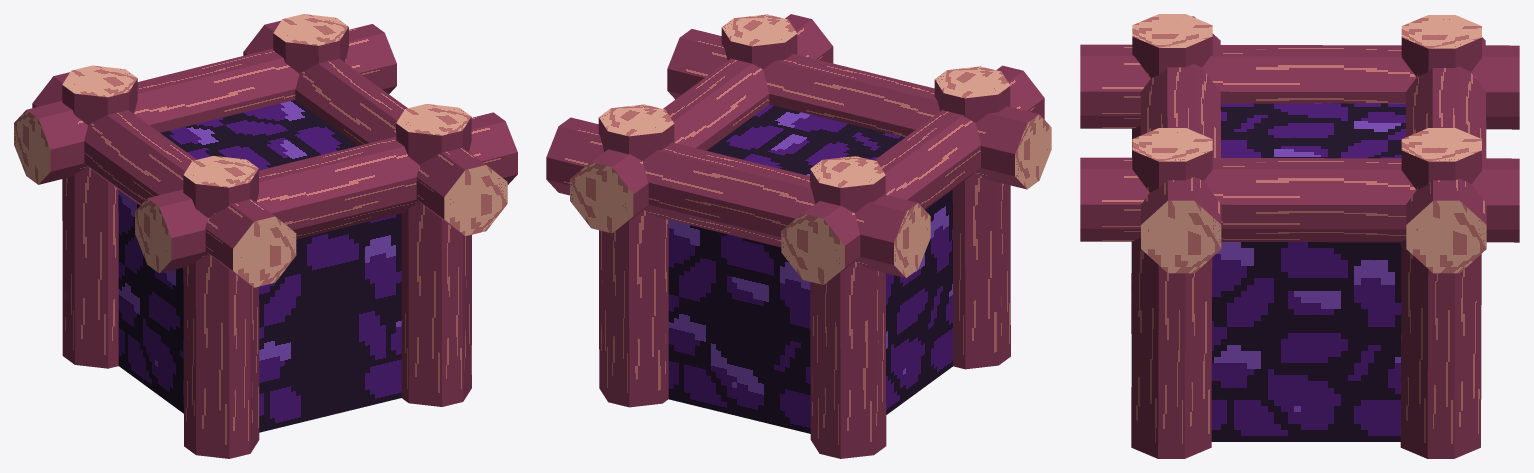
Rendered from CasaSimples.gltf.
The picture shows the model from 3 angles, left to right: view 1: azimuth 30°, elevation 25°; view 2: azimuth 150°, elevation 25°; view 3: azimuth 270°, elevation 25°; orthographic projection. The views are drawn at different scales.
Bounding box in the file's own units: 3.29 × 2.45 × 3.29.
1 material, 1 textured.
